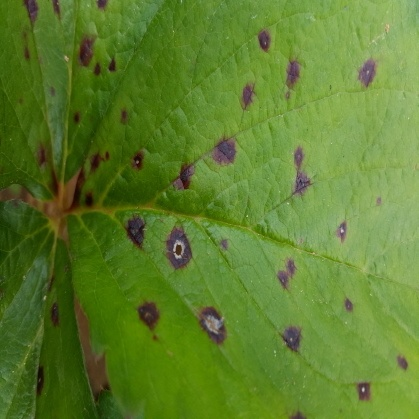Leaf_Spot: (0, 0, 353, 418), (59, 0, 418, 234), (50, 201, 418, 418)
